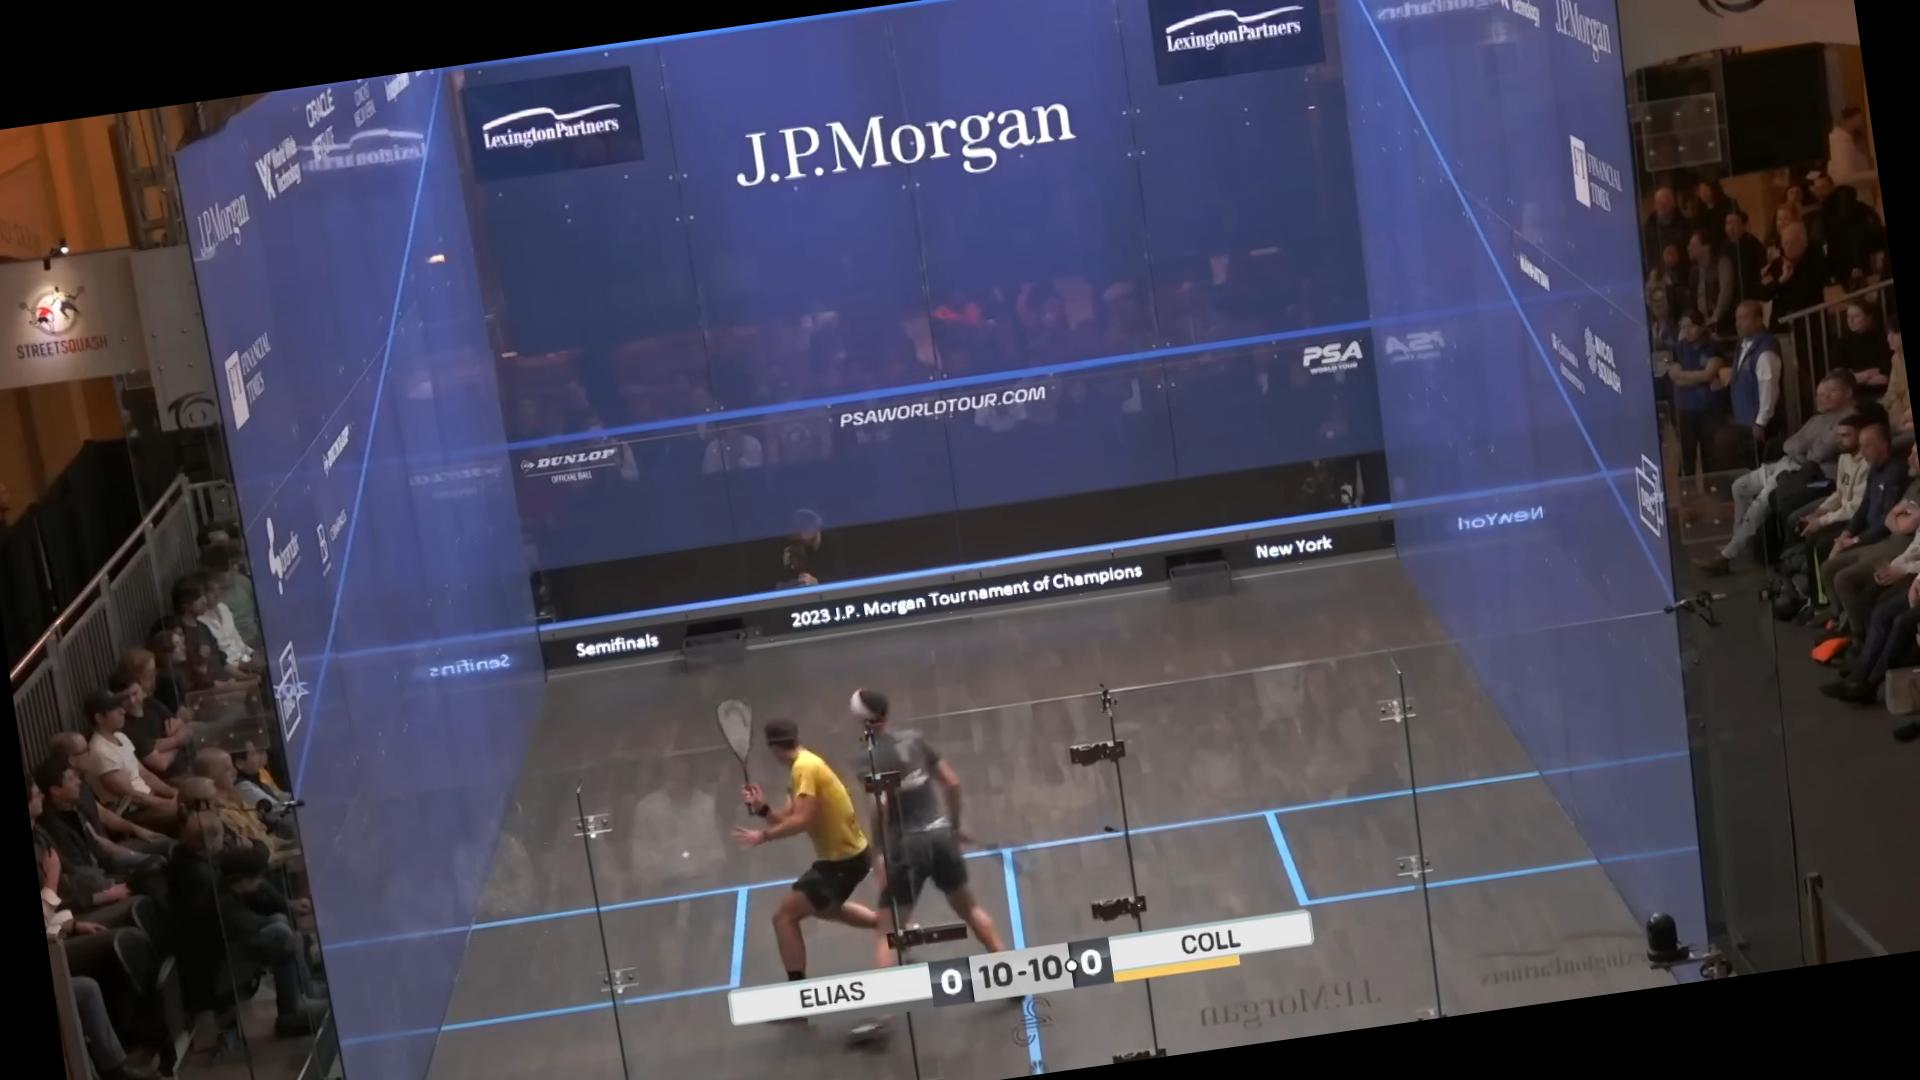Racket: (705, 684, 775, 829), (951, 831, 1044, 906)
